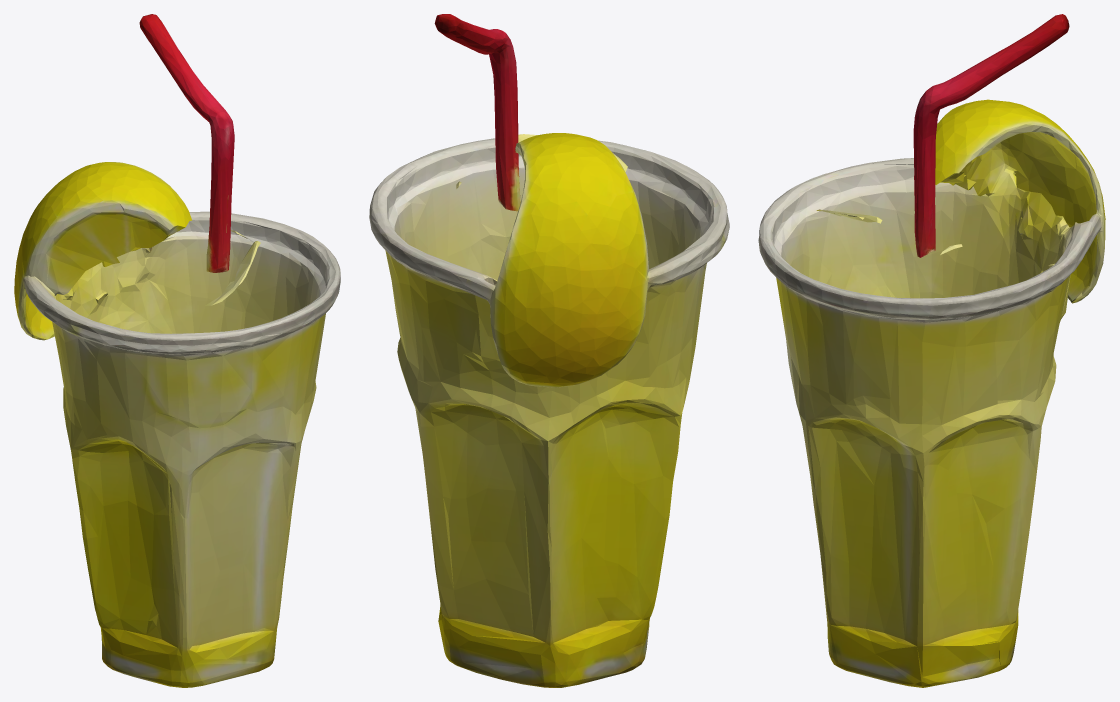
The picture shows the model from 3 angles, left to right: view 1: azimuth 30°, elevation 25°; view 2: azimuth 150°, elevation 25°; view 3: azimuth 270°, elevation 25°; orthographic projection. The views are drawn at different scales.
Parts seen in each view (by area): view 1: geometry_0; view 2: geometry_0; view 3: geometry_0.
Boxes of the visible parts, x1,y1,x2,y2 form: geometry_0: (14,14,340,687); geometry_0: (369,14,729,687); geometry_0: (758,14,1105,687).
Bounding box in the file's own units: 0.4872 × 0.999 × 0.4886.
Materials: 1 (1 with a texture image).
